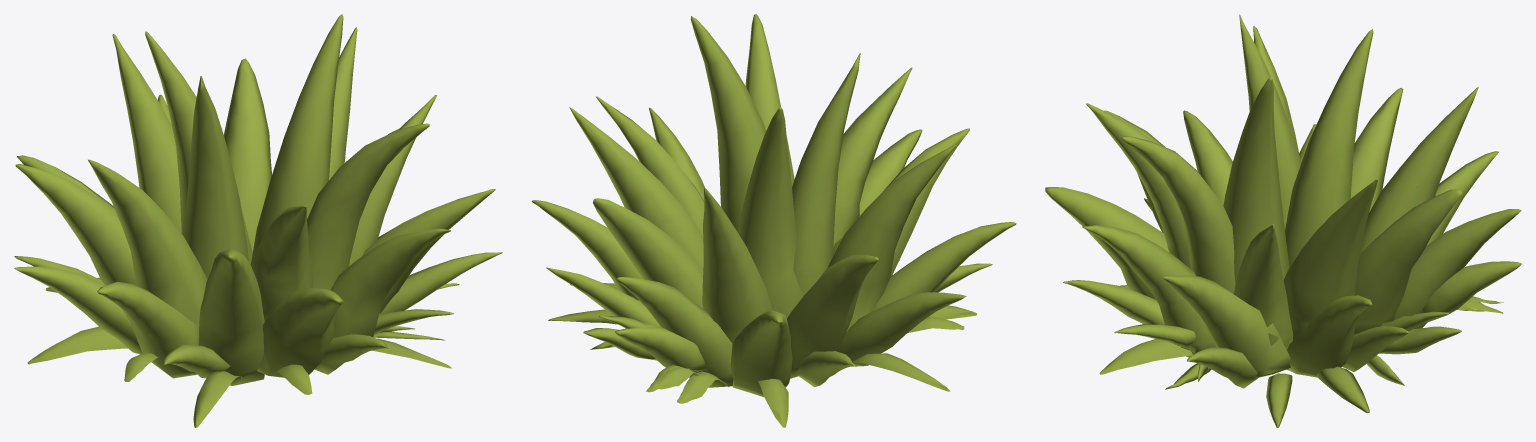
Rendered from 1792577749296-tufo_de_grama.glb.
The picture shows the model from 3 angles, left to right: view 1: azimuth 30°, elevation 25°; view 2: azimuth 150°, elevation 25°; view 3: azimuth 270°, elevation 25°; orthographic projection. The views are drawn at different scales.
Parts seen in each view (by area): view 1: tripo_node_4f554df1-56cf-45a6-a1a8-551fc2344098; view 2: tripo_node_4f554df1-56cf-45a6-a1a8-551fc2344098; view 3: tripo_node_4f554df1-56cf-45a6-a1a8-551fc2344098.
Boxes of the visible parts, box(x1,y1,x2,y2) form: tripo_node_4f554df1-56cf-45a6-a1a8-551fc2344098: box(14, 14, 502, 427); tripo_node_4f554df1-56cf-45a6-a1a8-551fc2344098: box(531, 14, 1016, 427); tripo_node_4f554df1-56cf-45a6-a1a8-551fc2344098: box(1045, 14, 1521, 427).
Bounding box in the file's own units: 0.998 × 0.709 × 0.998.
Materials: 1 (1 with a texture image).
